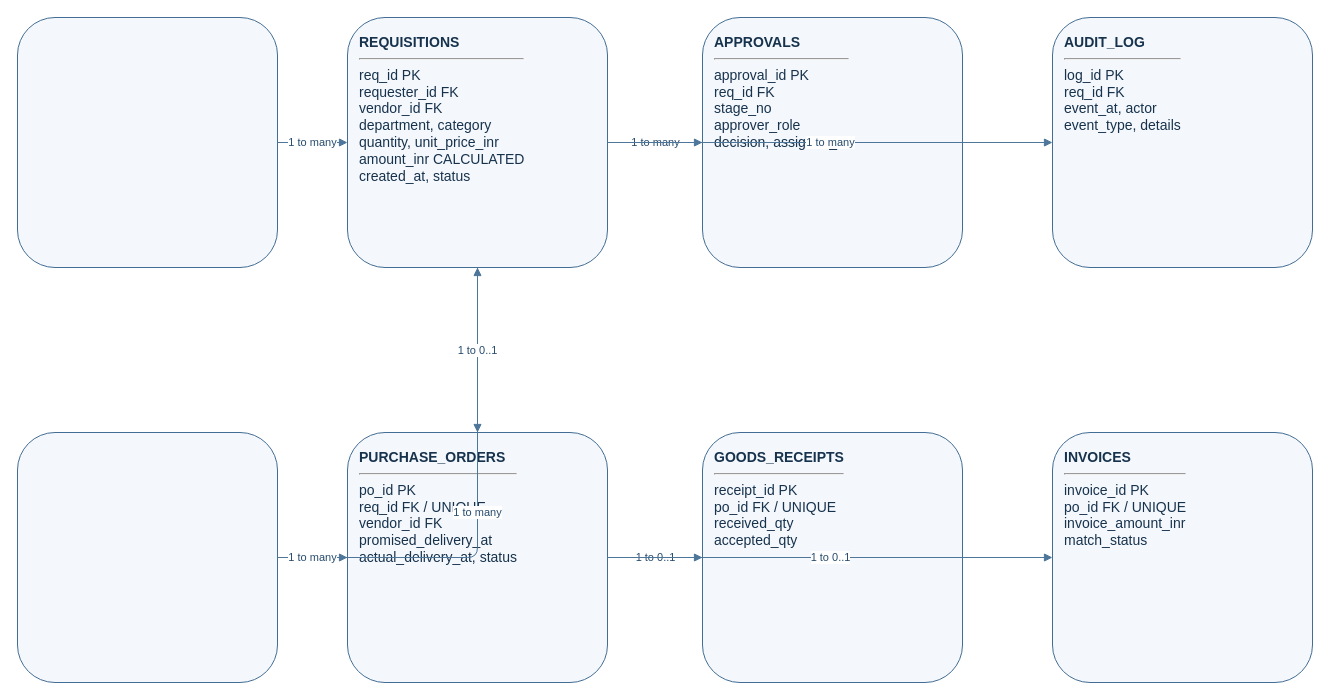
This 1330x700 diagram has some shape labels left out. Each missing label, with the centre of its shape:
USERS user_id PK full_name department role: the point at 147,142
VENDORS vendor_id PK vendor_name category region is_active: the point at 147,557
